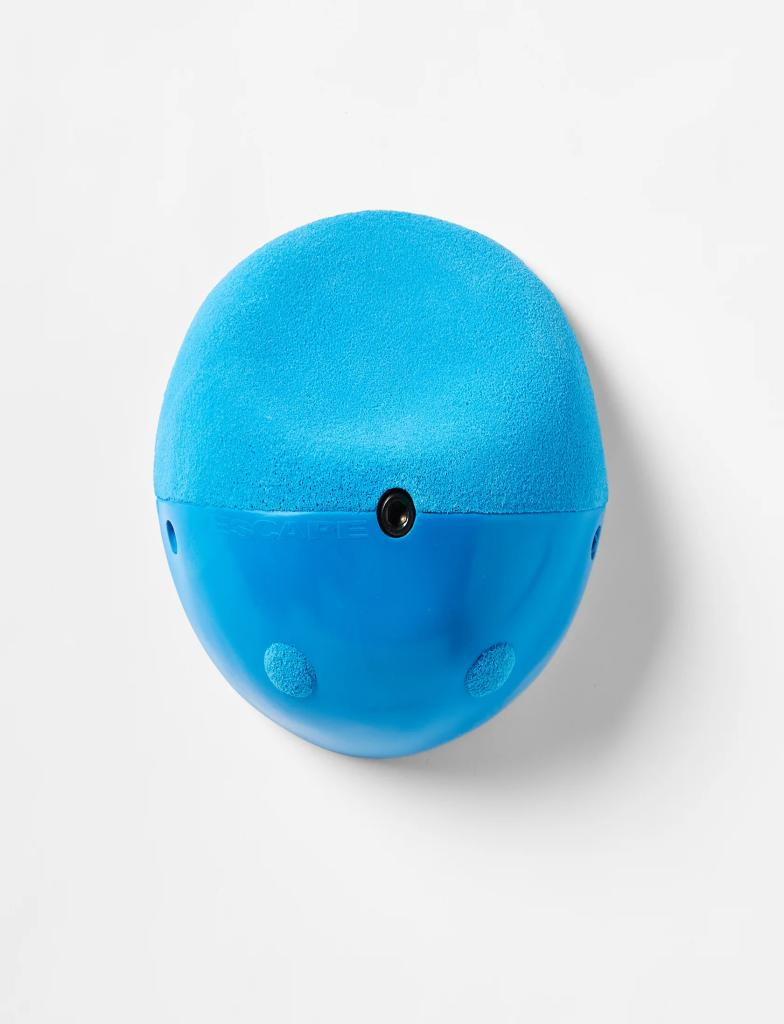sloper: (154, 212, 608, 758)
